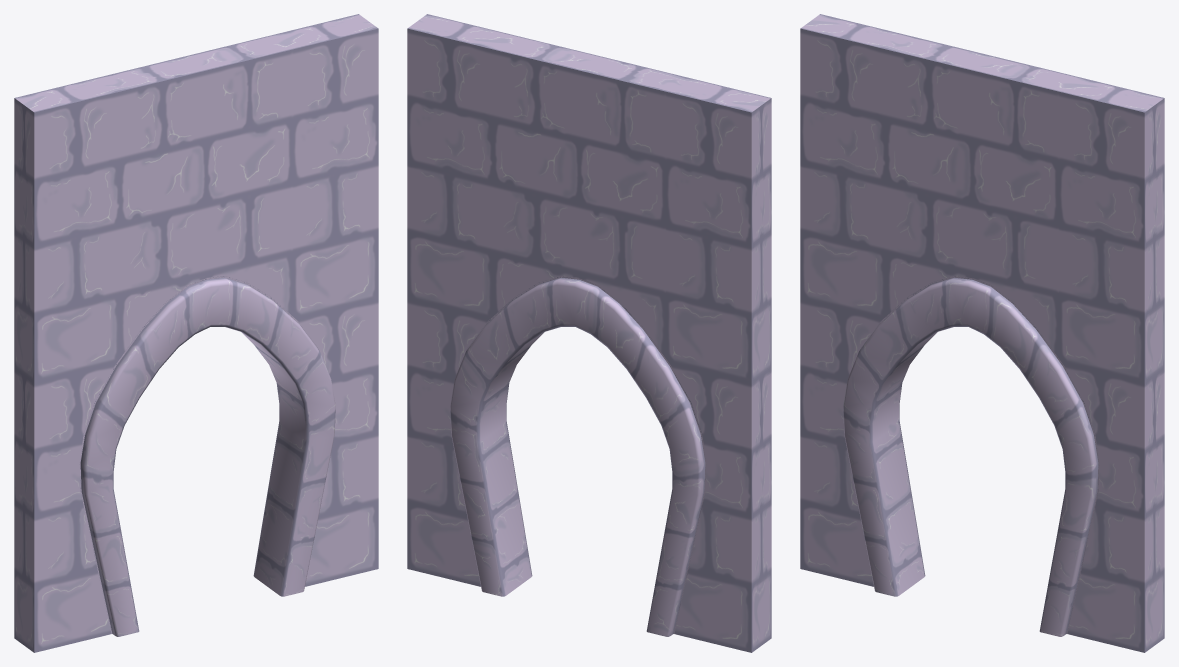
Rendered from SM_Doorway.fbx.
3 renders of one model, left to right at view 1: azimuth 30°, elevation 25°; view 2: azimuth 150°, elevation 25°; view 3: azimuth 330°, elevation 25°, orthographic.
Visible parts, largest first — view 1: SM_Doorway; view 2: SM_Doorway; view 3: SM_Doorway.
Part boxes in pixels (x1=…): SM_Doorway: x1=14, y1=14, x2=378, y2=652; SM_Doorway: x1=407, y1=14, x2=771, y2=652; SM_Doorway: x1=800, y1=14, x2=1164, y2=652.
Bounding box in the file's own units: 4 × 0.5932 × 6.
